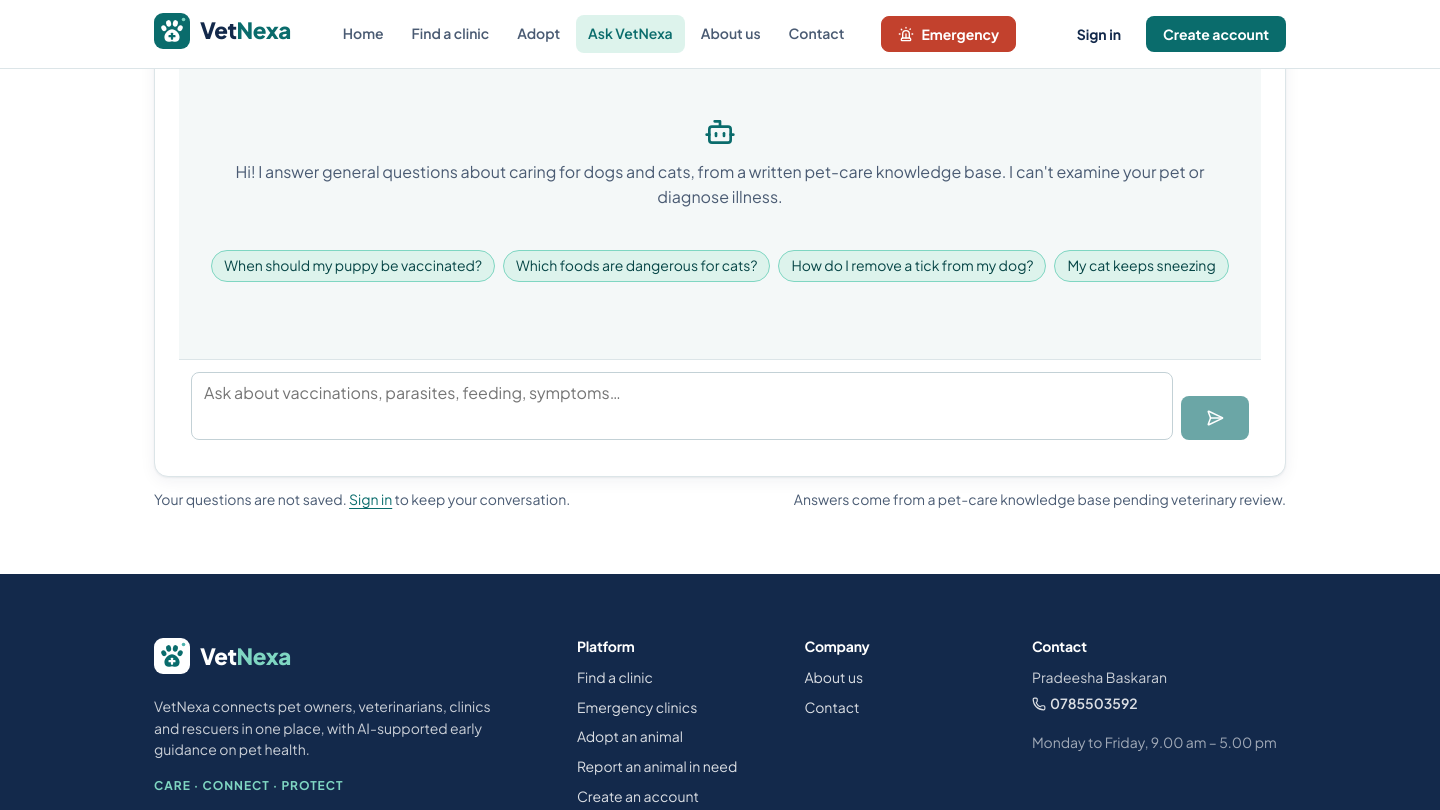
it: pet-care assistant › shows emergencies prominently with a link to emergency clinics
The image size is (1440, 810).
(page scrolled)
Type "my dog ate rat poison" into the text box named "Your question" at (682, 406), box [191,372,1173,440]
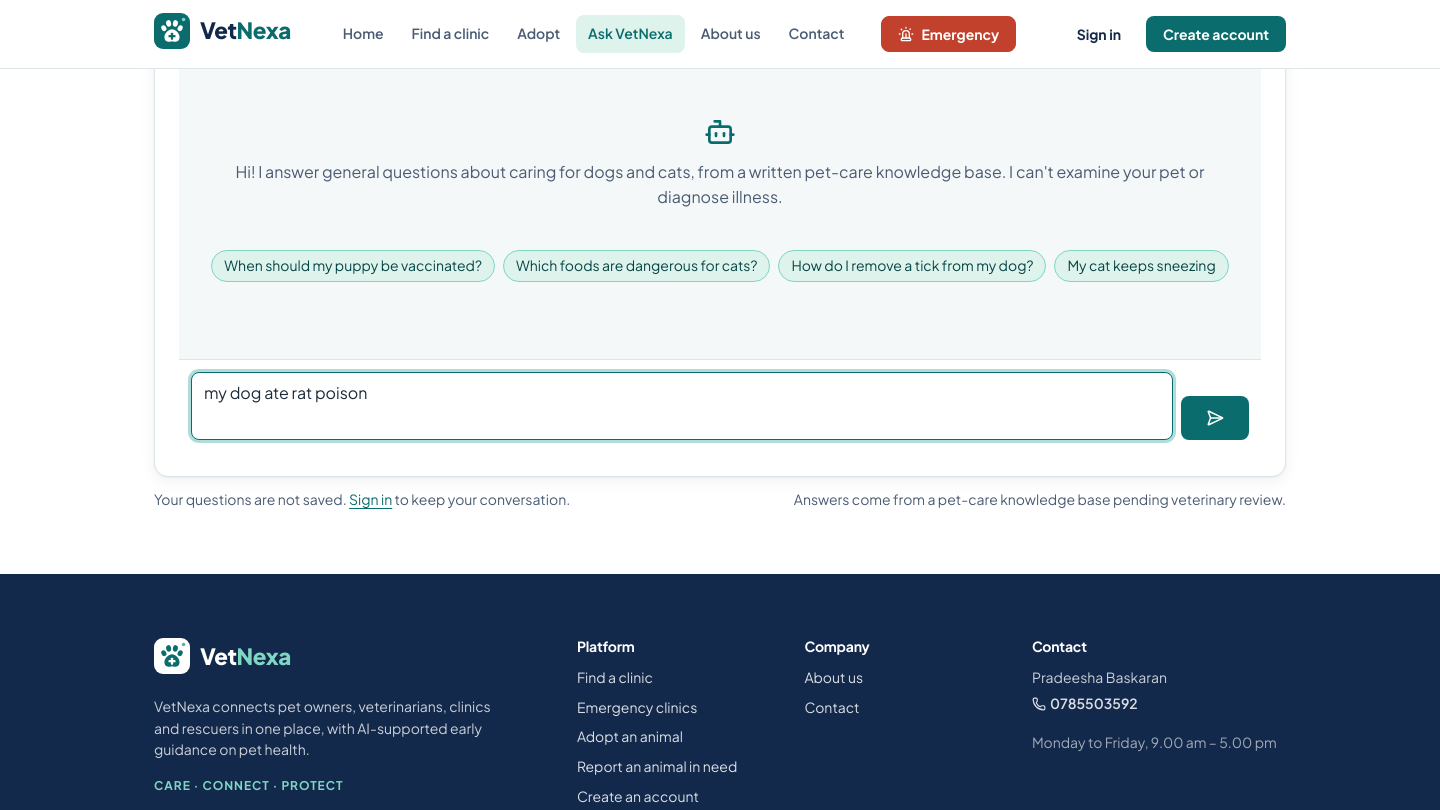
Click the button named "Send question" at (1215, 418), box [1181,396,1249,440]
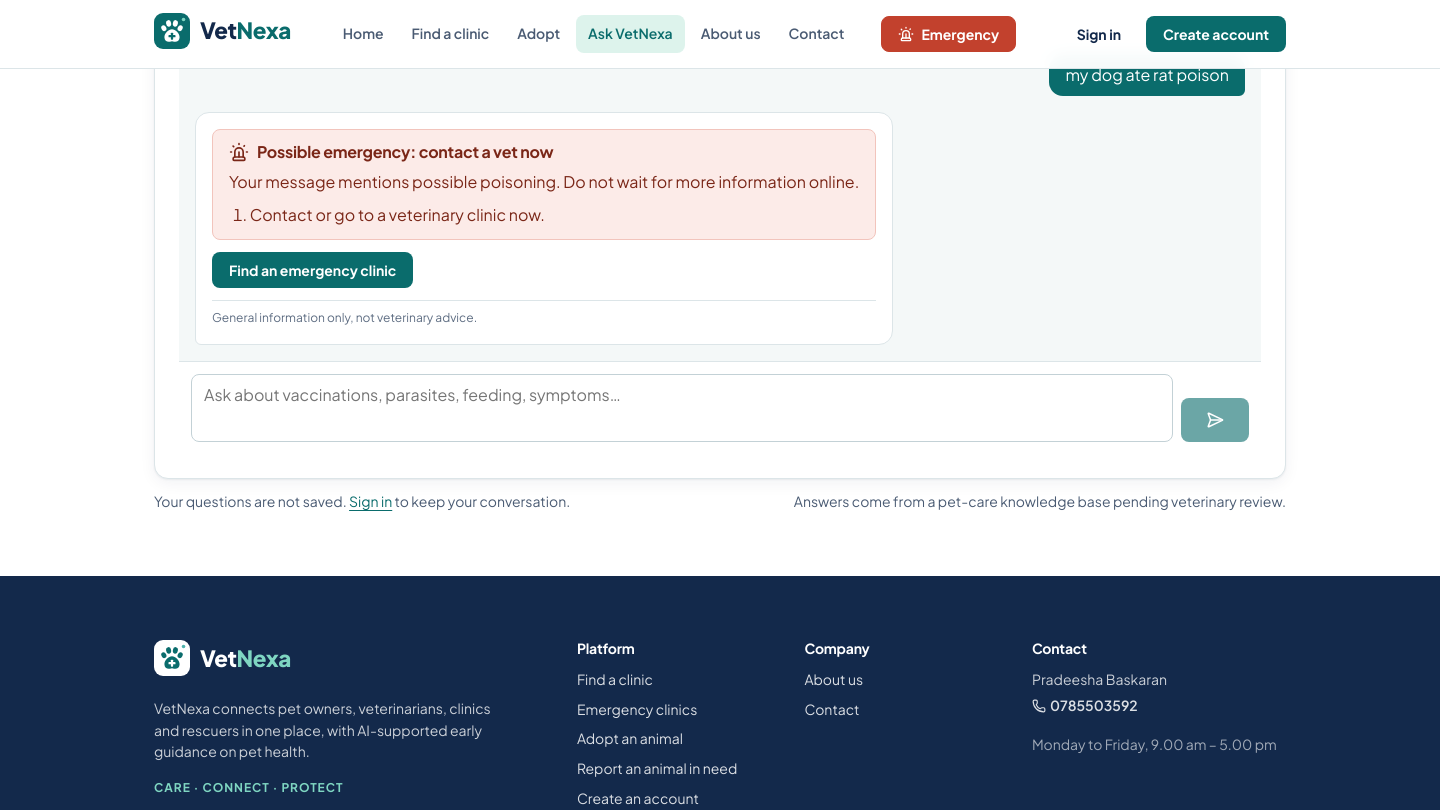
expect the heading "Possible emergency: contact a vet now" is shown: met, box [229,141,553,162]
expect the text "possible poisoning" is shown: met, box [412,171,556,192]
